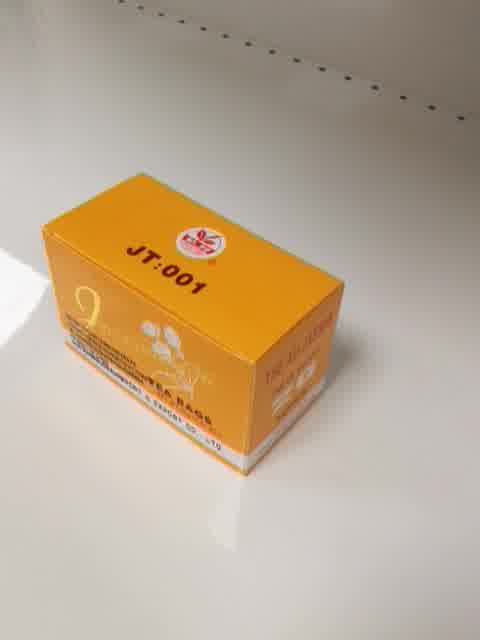jasminetea: (40, 170, 348, 479)
